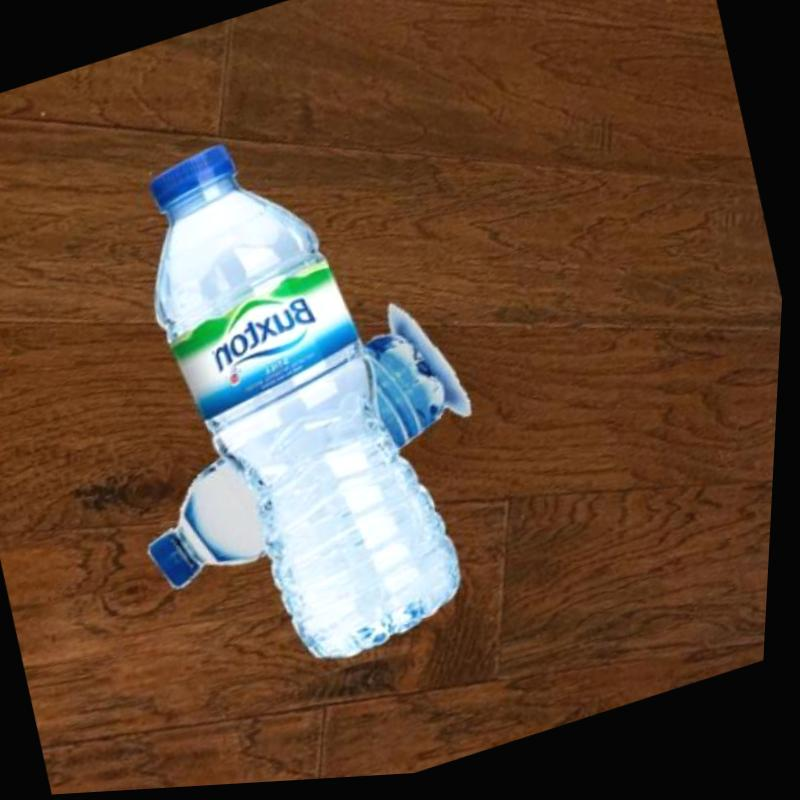botella: (101, 97, 500, 706), (115, 321, 480, 600)
